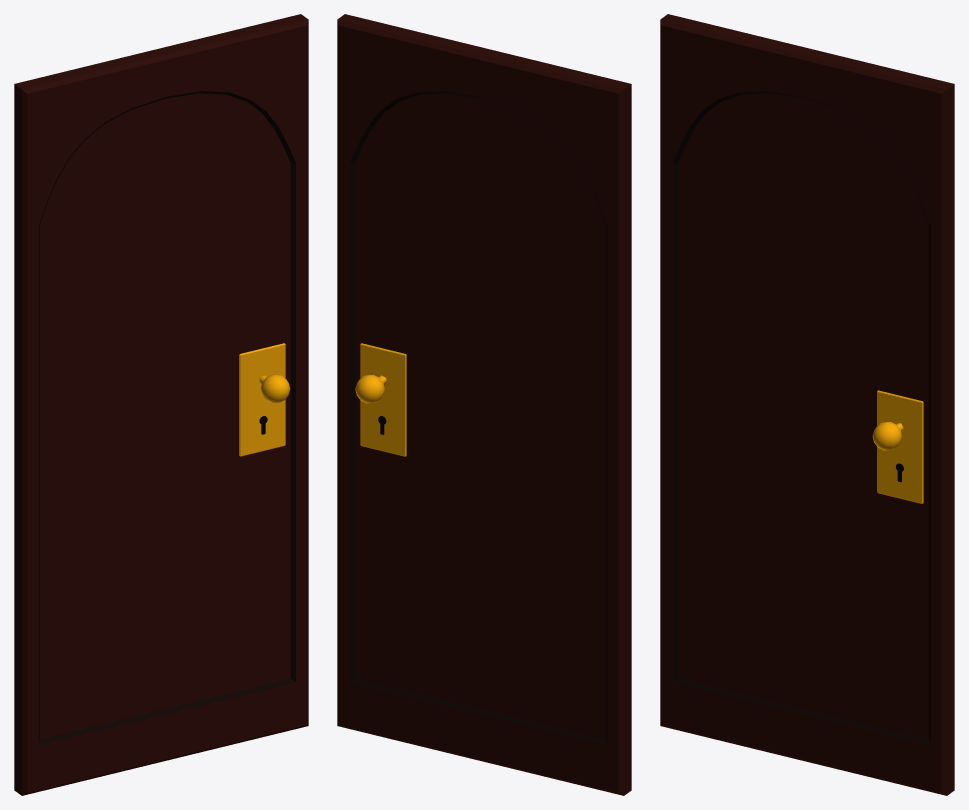
The model's file is Door.FBX.
The picture shows the model from 3 angles, left to right: view 1: azimuth 30°, elevation 25°; view 2: azimuth 150°, elevation 25°; view 3: azimuth 330°, elevation 25°; orthographic projection.
Parts seen in each view (by area): view 1: Door, DoorKnob; view 2: Door, DoorKnob; view 3: Door, DoorKnob.
Boxes of the visible parts, x1,y1,x2,y2 form: Door: [14, 14, 308, 795]; DoorKnob: [239, 343, 290, 456]; Door: [337, 14, 631, 795]; DoorKnob: [355, 343, 406, 456]; Door: [660, 14, 954, 795]; DoorKnob: [872, 390, 923, 503].
Bounding box in the file's own units: 33.46 × 78.74 × 9.98.
